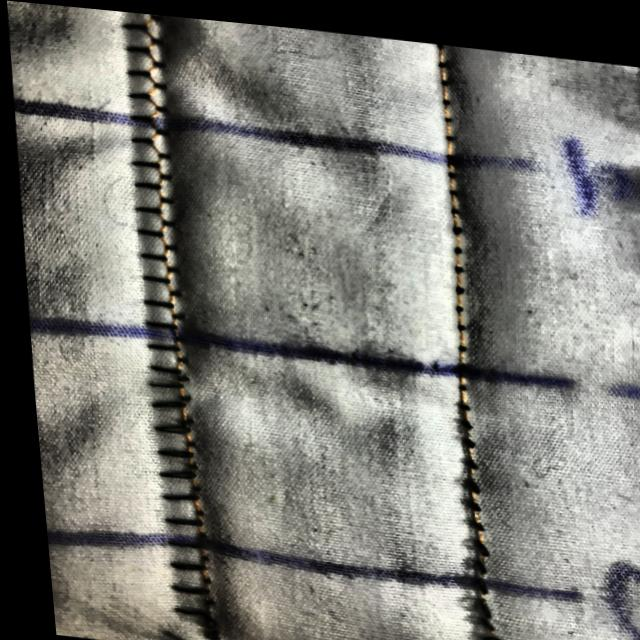Stitch: (432, 407, 527, 640)
